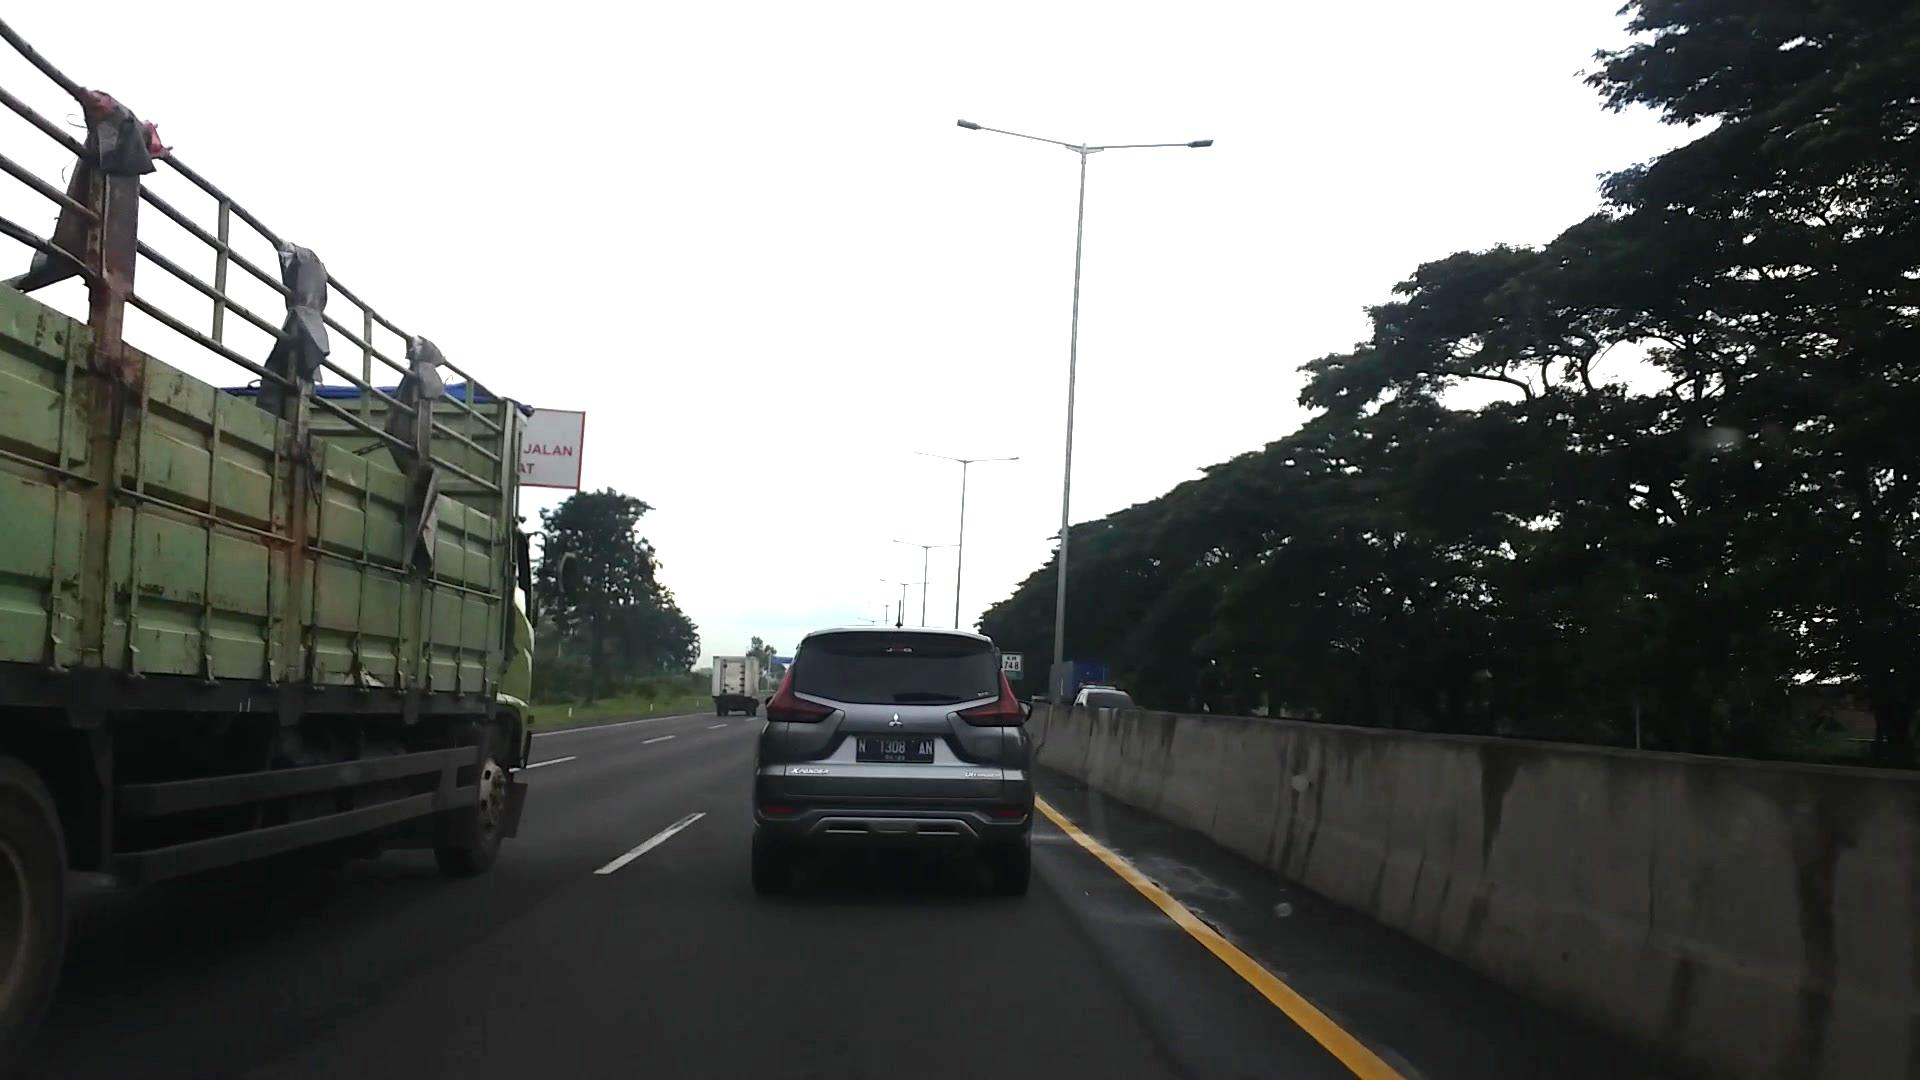plate_positive: (856, 735, 934, 764)
